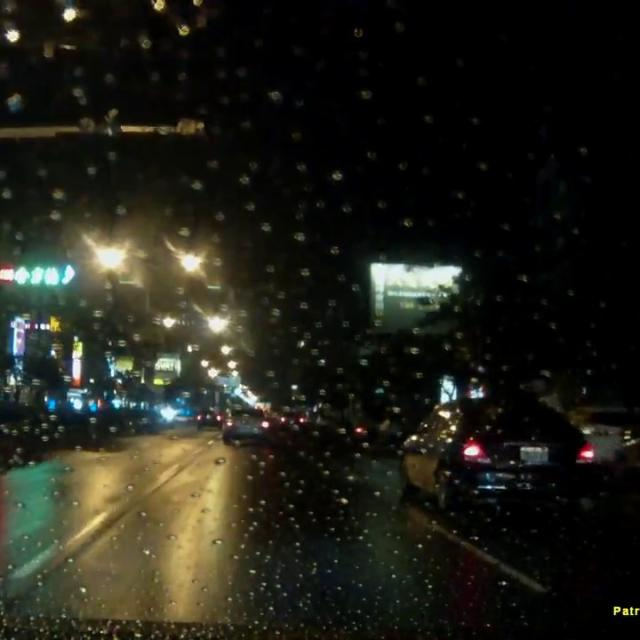Car: (393, 394, 595, 513), (562, 399, 639, 468), (218, 405, 269, 445), (193, 406, 223, 429)
